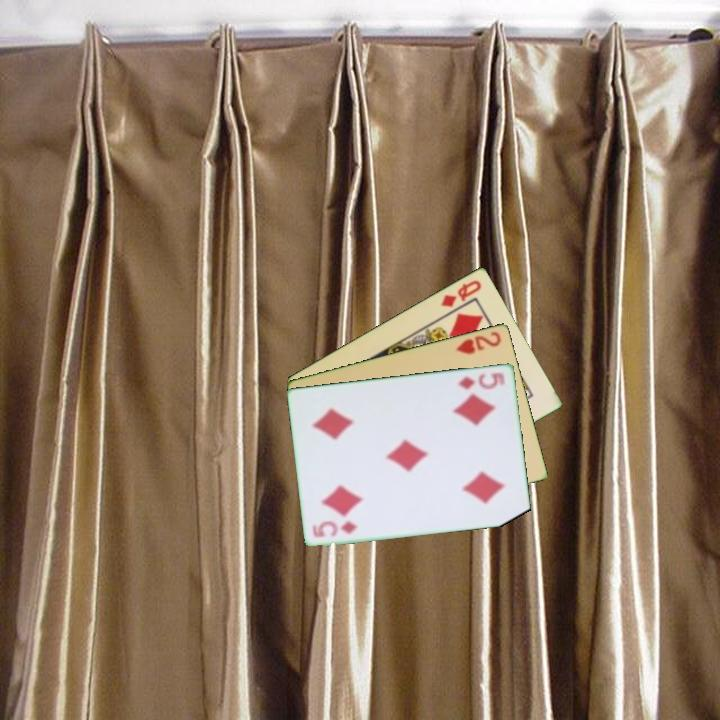2h: (453, 327, 504, 357)
5d: (454, 369, 508, 392), (314, 517, 361, 539)
Qd: (437, 276, 485, 310)
